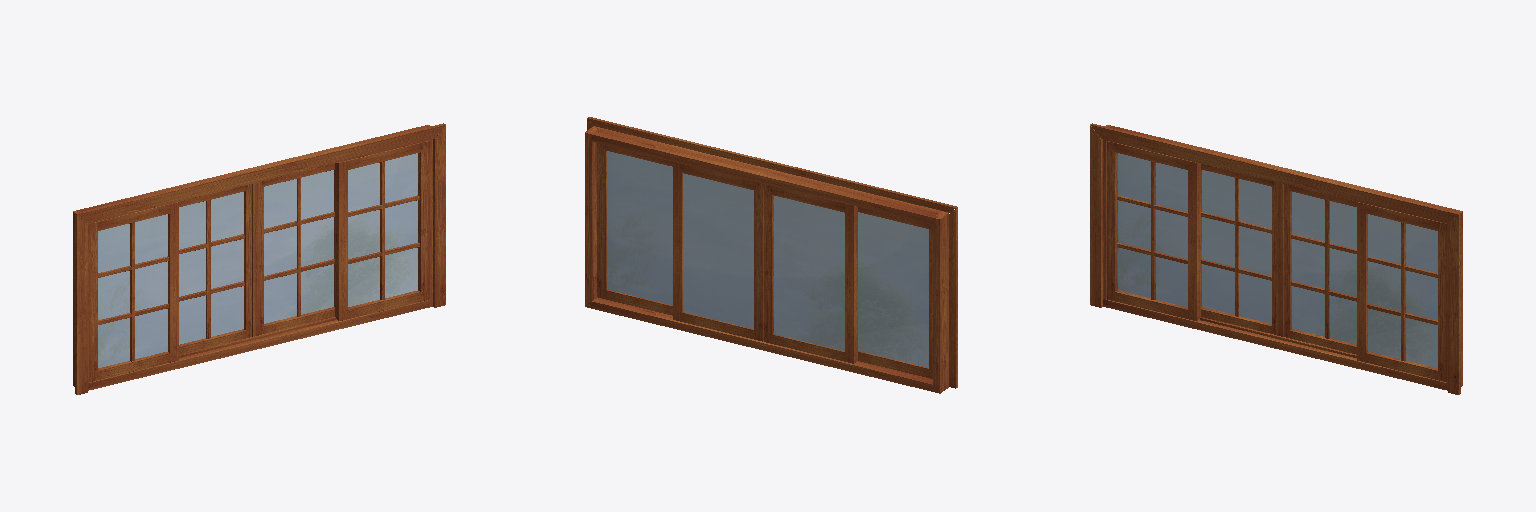
The picture shows the model from 3 angles: view 1: azimuth 30°, elevation 25°; view 2: azimuth 150°, elevation 25°; view 3: azimuth 330°, elevation 25°; orthographic projection.
Parts seen in each view (by area): view 1: glass003, glass, glass001, glass002, trim_top, box_bottom, trim_left, trim_right, window_right001, window_left001, window_right, window_left (+15 smaller); view 2: glass, glass003, glass002, glass001, box_top, box_bottom, trim_top, box_left, box_right, window_right002, trim_left, window_left003 (+10 smaller); view 3: glass002, glass, glass001, glass003, trim_top, box_bottom, trim_right, trim_left, window_right, window_right001, window_left, window_left001 (+16 smaller).
Boxes of the visible parts, x1=… form: glass003: x1=264, y1=170, x2=333, y2=323; glass: x1=98, y1=214, x2=167, y2=367; glass001: x1=348, y1=153, x2=417, y2=306; glass002: x1=179, y1=192, x2=243, y2=344; trim_top: x1=75, y1=123, x2=445, y2=223; box_bottom: x1=88, y1=299, x2=429, y2=390; trim_left: x1=75, y1=214, x2=87, y2=394; trim_right: x1=433, y1=125, x2=445, y2=307; window_right001: x1=335, y1=161, x2=347, y2=320; window_left001: x1=418, y1=141, x2=429, y2=300; window_right: x1=168, y1=202, x2=178, y2=362; window_left: x1=89, y1=222, x2=97, y2=381; glass: x1=858, y1=212, x2=928, y2=367; glass003: x1=683, y1=173, x2=753, y2=328; glass002: x1=774, y1=196, x2=844, y2=350; glass001: x1=607, y1=151, x2=672, y2=304; box_top: x1=592, y1=128, x2=943, y2=225; box_bottom: x1=589, y1=297, x2=935, y2=392; trim_top: x1=588, y1=117, x2=956, y2=212; box_left: x1=933, y1=212, x2=948, y2=393; box_right: x1=585, y1=126, x2=599, y2=307; window_right002: x1=845, y1=204, x2=857, y2=363; trim_left: x1=949, y1=207, x2=957, y2=388; window_left003: x1=754, y1=182, x2=763, y2=341; glass002: x1=1202, y1=170, x2=1271, y2=323; glass: x1=1118, y1=153, x2=1187, y2=306; glass001: x1=1368, y1=214, x2=1437, y2=367; glass003: x1=1292, y1=192, x2=1356, y2=344; trim_top: x1=1090, y1=123, x2=1460, y2=223; box_bottom: x1=1103, y1=299, x2=1447, y2=390; trim_right: x1=1448, y1=214, x2=1460, y2=394; trim_left: x1=1090, y1=125, x2=1102, y2=307; window_right: x1=1188, y1=161, x2=1200, y2=320; window_right001: x1=1357, y1=202, x2=1367, y2=362; window_left: x1=1107, y1=141, x2=1117, y2=300; window_left001: x1=1438, y1=222, x2=1446, y2=381.
Bounding box in the file's own units: 82 × 38.36 × 4.25.
7 materials, 7 textured.